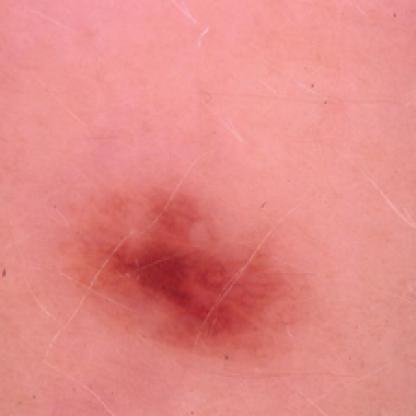benign: (84, 174, 273, 356)
